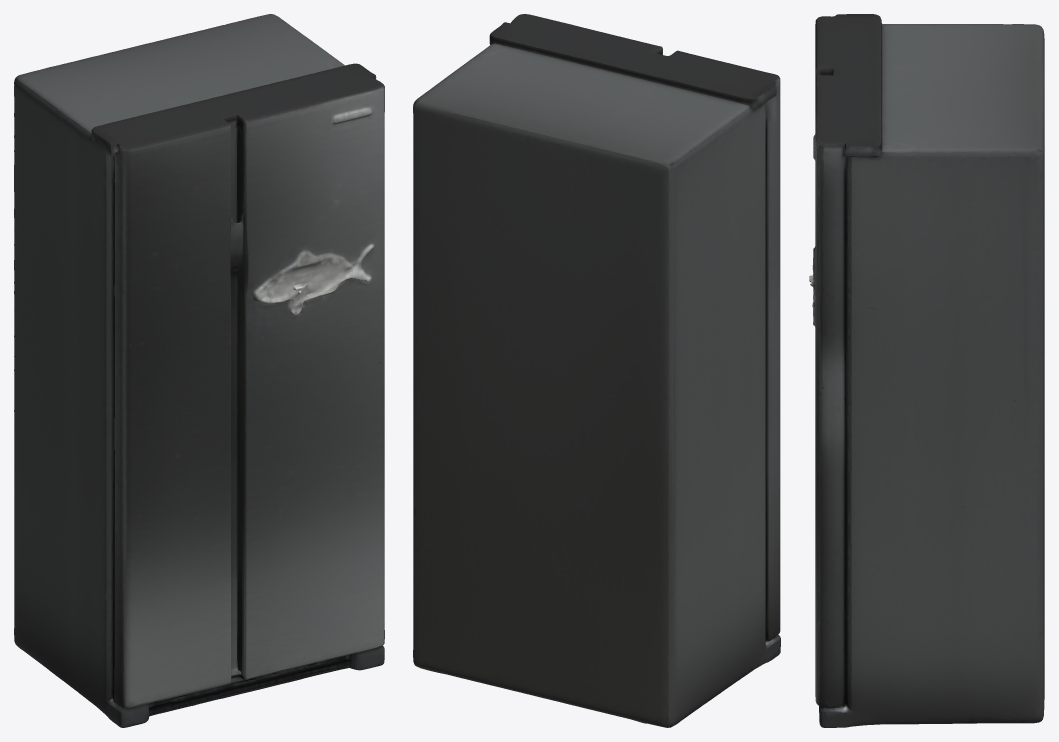
Rendered from item_3fca6056.glb.
3 views of the same model, side by side, from view 1: azimuth 30°, elevation 25°; view 2: azimuth 150°, elevation 25°; view 3: azimuth 270°, elevation 25° (orthographic).
Visible parts, largest first — view 1: world; view 2: world; view 3: world.
Boxes of the visible parts, bbox=[...] form: world: bbox=[14, 14, 384, 727]; world: bbox=[413, 14, 780, 727]; world: bbox=[809, 14, 1044, 727].
Bounding box in the file's own units: 1.8 × 3.68 × 1.35.
1 material, 1 textured.
